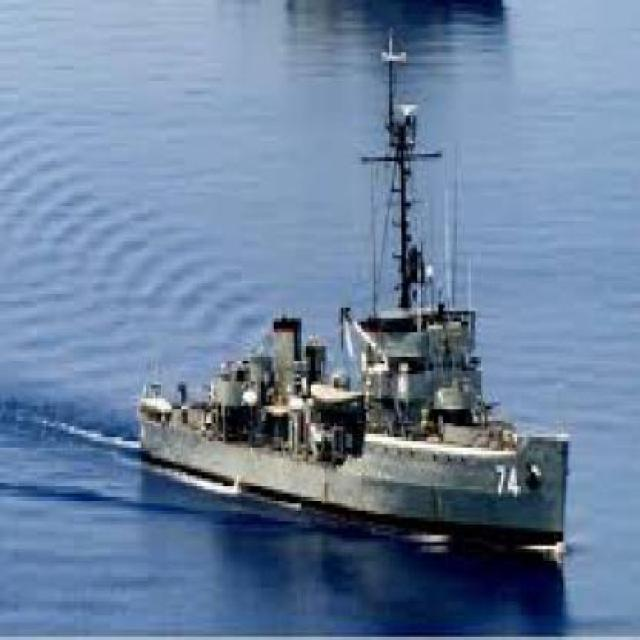warship2: (126, 46, 611, 571)
